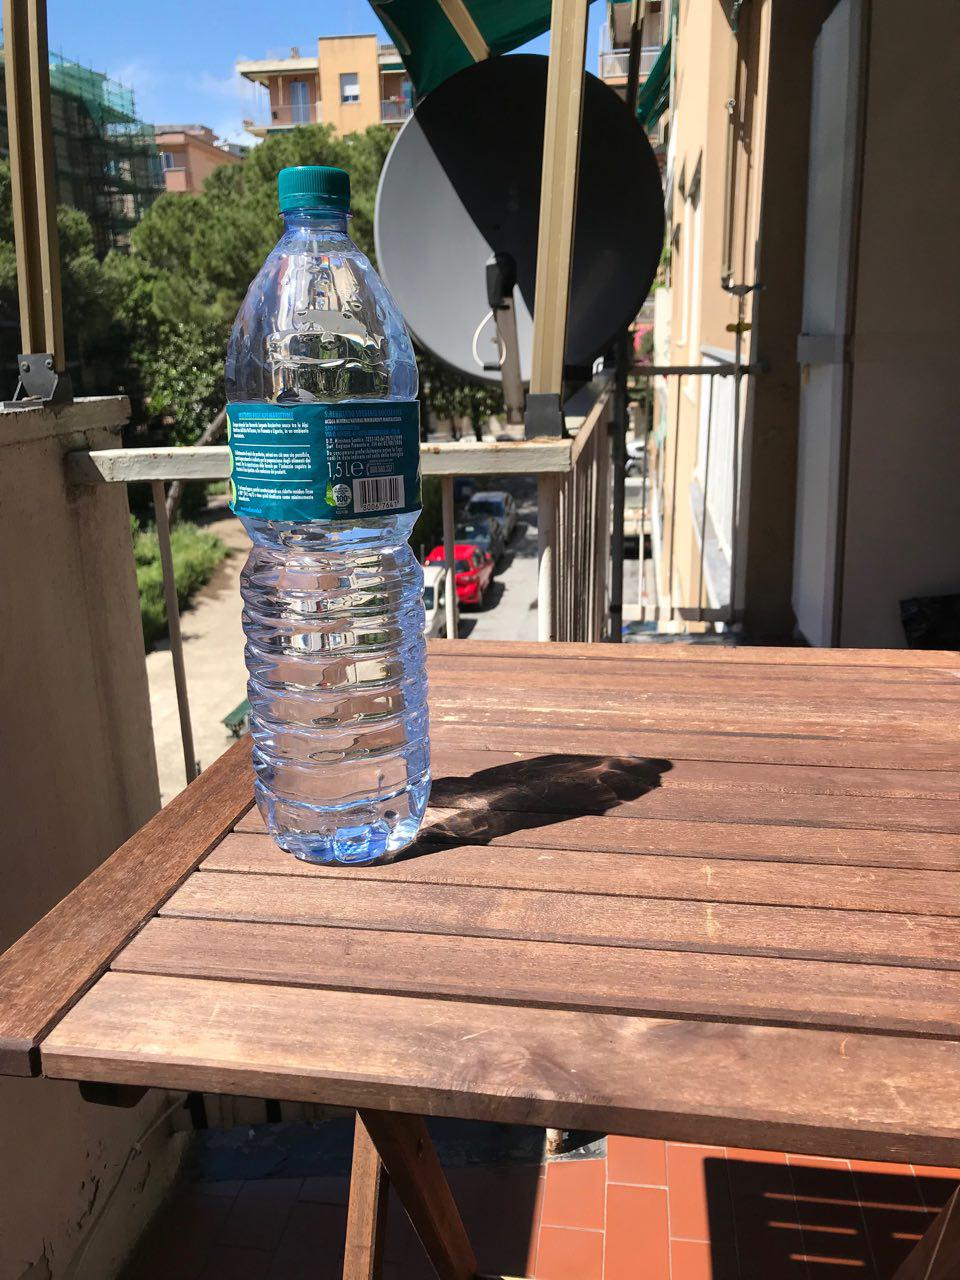san_bernardo: (223, 166, 432, 864)
